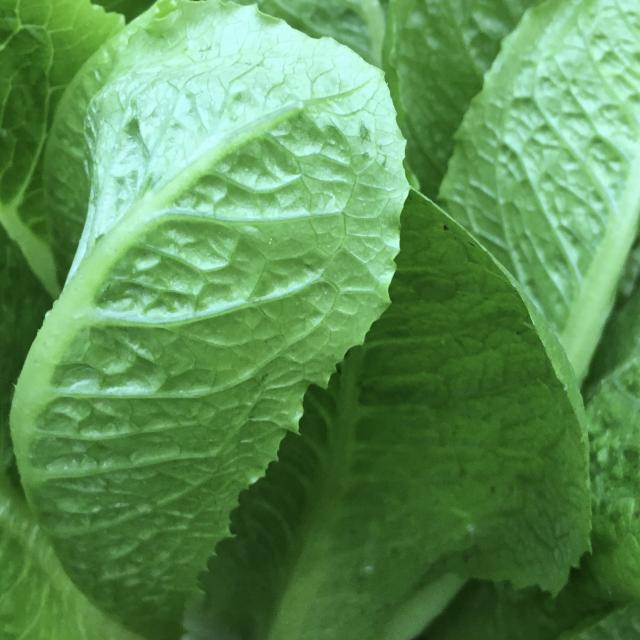Healthy Lettuce: (5, 2, 635, 636), (193, 184, 596, 637)
